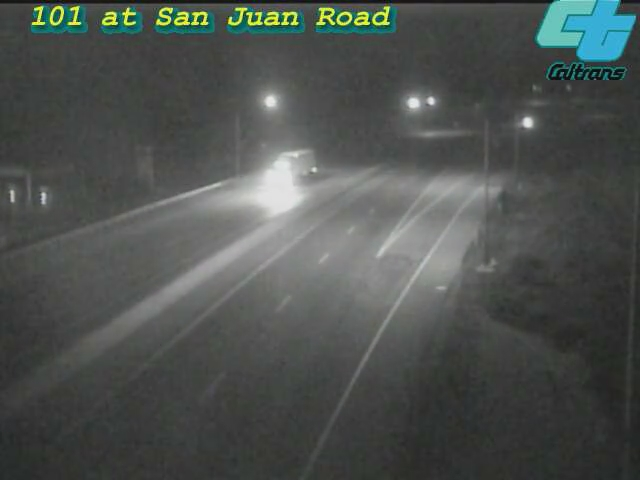vehicle: (247, 133, 327, 213), (501, 97, 551, 147)
